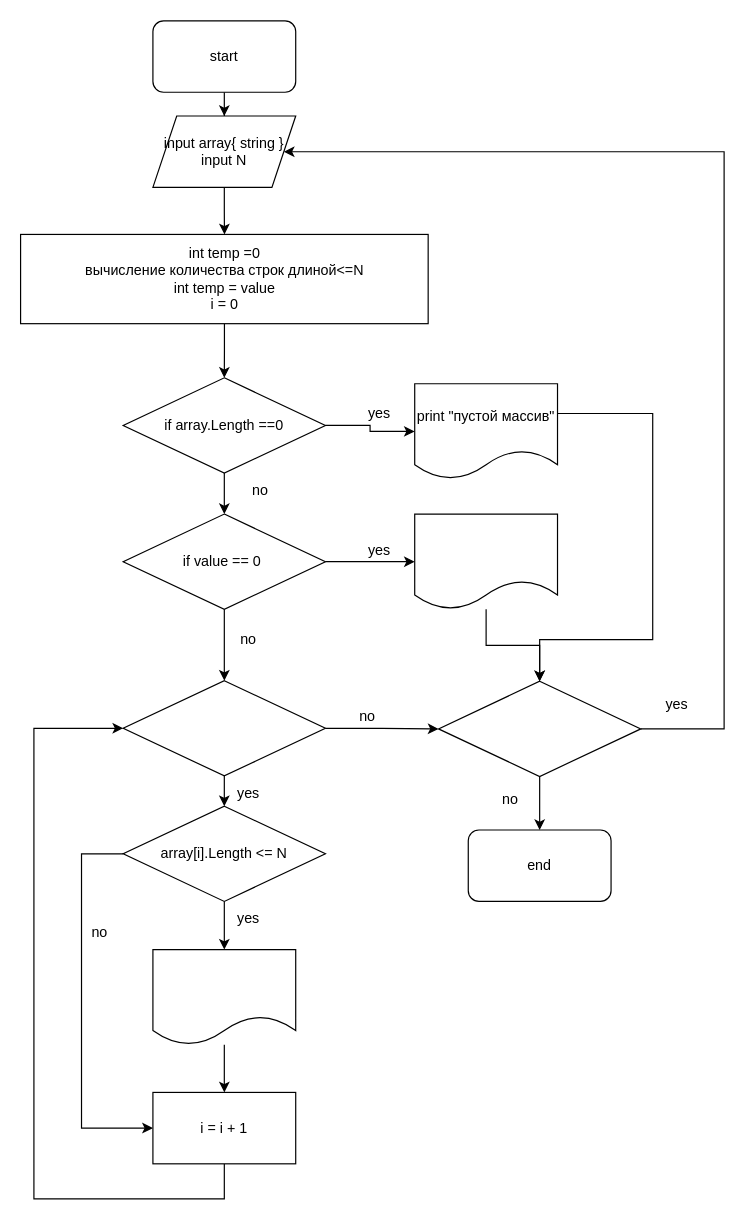
Image size: 756x1229. Some labels were removed from this diagram. The box of each missing label's shape, as (x1, y1, x2, y2) in pixels:
i < array.Length: (122, 679, 325, 776)
print "строк короче N нет": (414, 513, 558, 609)
print array[i]: (152, 948, 296, 1045)
restart ?: (437, 680, 641, 776)
